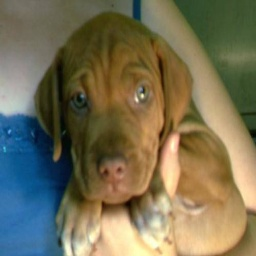dog: (29, 8, 235, 256)
